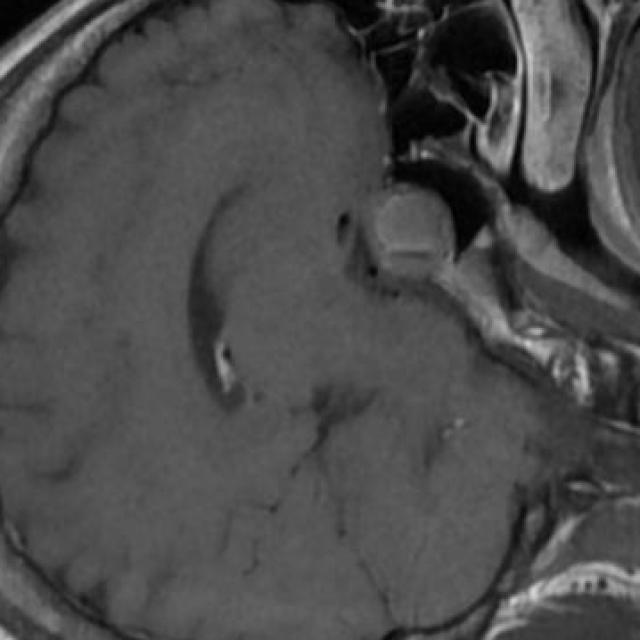pituitary: (374, 187, 455, 283)
